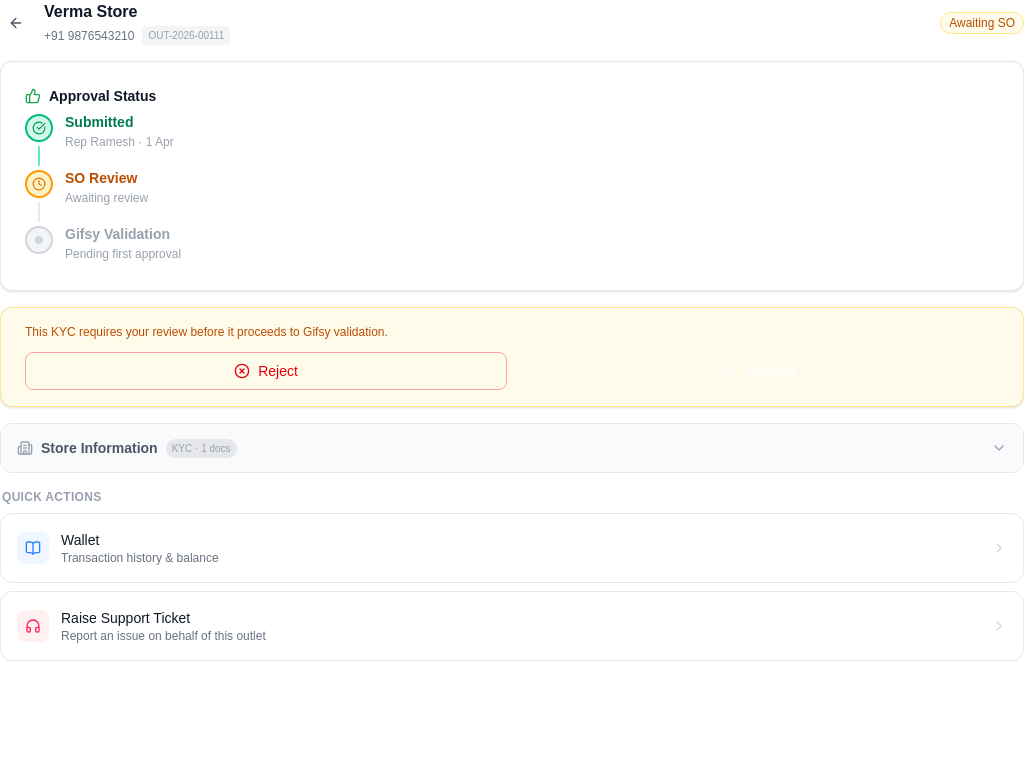
Test: SKDP — Sales KYC detail documents + photos › SKDP4: no demo-mode placeholder and no dead Tier chip
The width and height of the screenshot is (1024, 768).
Expected: the heading "Verma Store" is shown, x1=44 y1=3 x2=137 y2=20
Click the text "Store Information" at (99, 448), box x1=41 y1=438 x2=158 y2=458
(page scrolled)
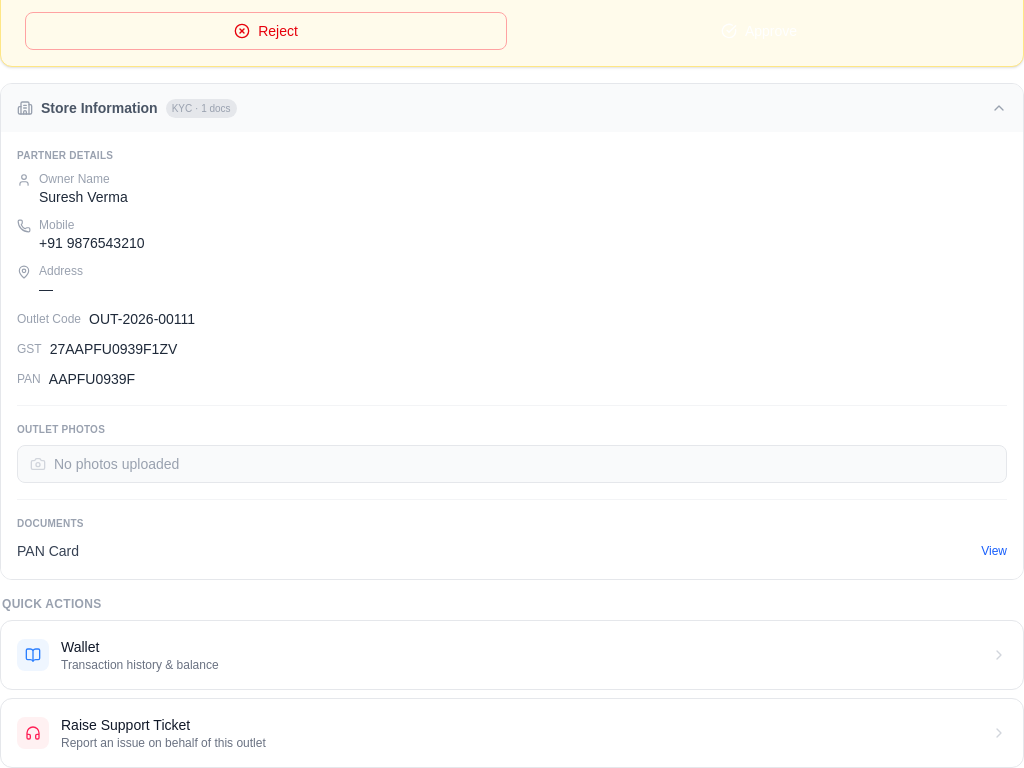
Now the text "PAN Card" is shown, box x1=17 y1=541 x2=79 y2=561
